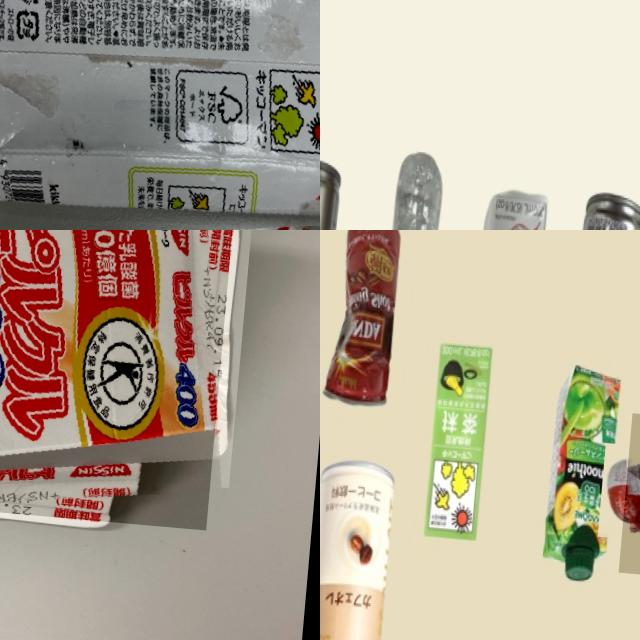Aluminium Foil: (0, 0, 320, 230), (0, 230, 240, 529), (536, 364, 622, 586), (416, 331, 498, 546)
Can: (323, 230, 409, 416), (320, 452, 402, 640)
Transparent Plastic Bottle: (365, 148, 446, 230)
